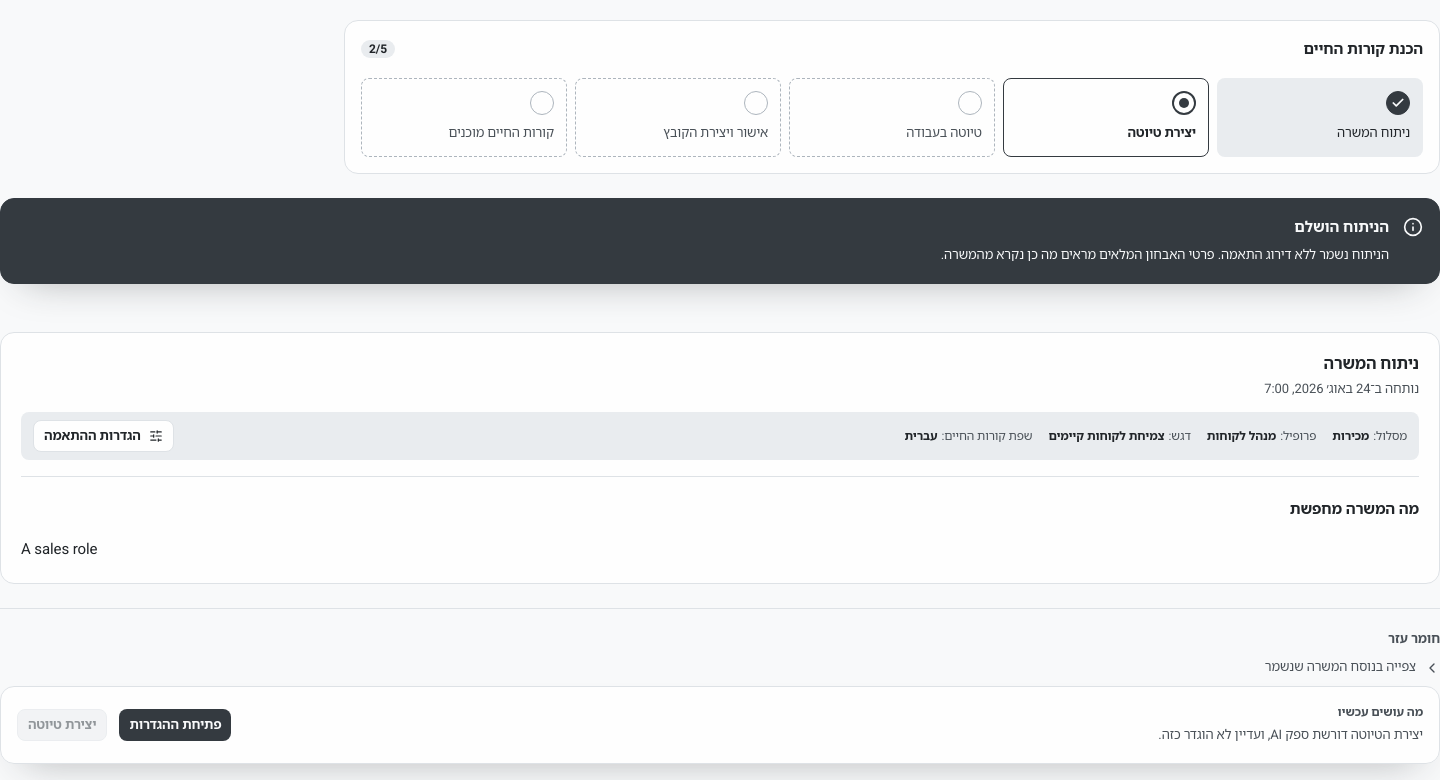
Test: voluntary matching configuration › shows current values and sends the analysis the form read
(page scrolled)
Expected: the text "מכירות" is shown, x1=1332 y1=427 x2=1369 y2=445
Expected: the text "מנהל לקוחות" is shown, x1=1207 y1=427 x2=1276 y2=445
Click the button "הגדרות ההתאמה": (103, 436) x1=33 y1=420 x2=174 y2=452
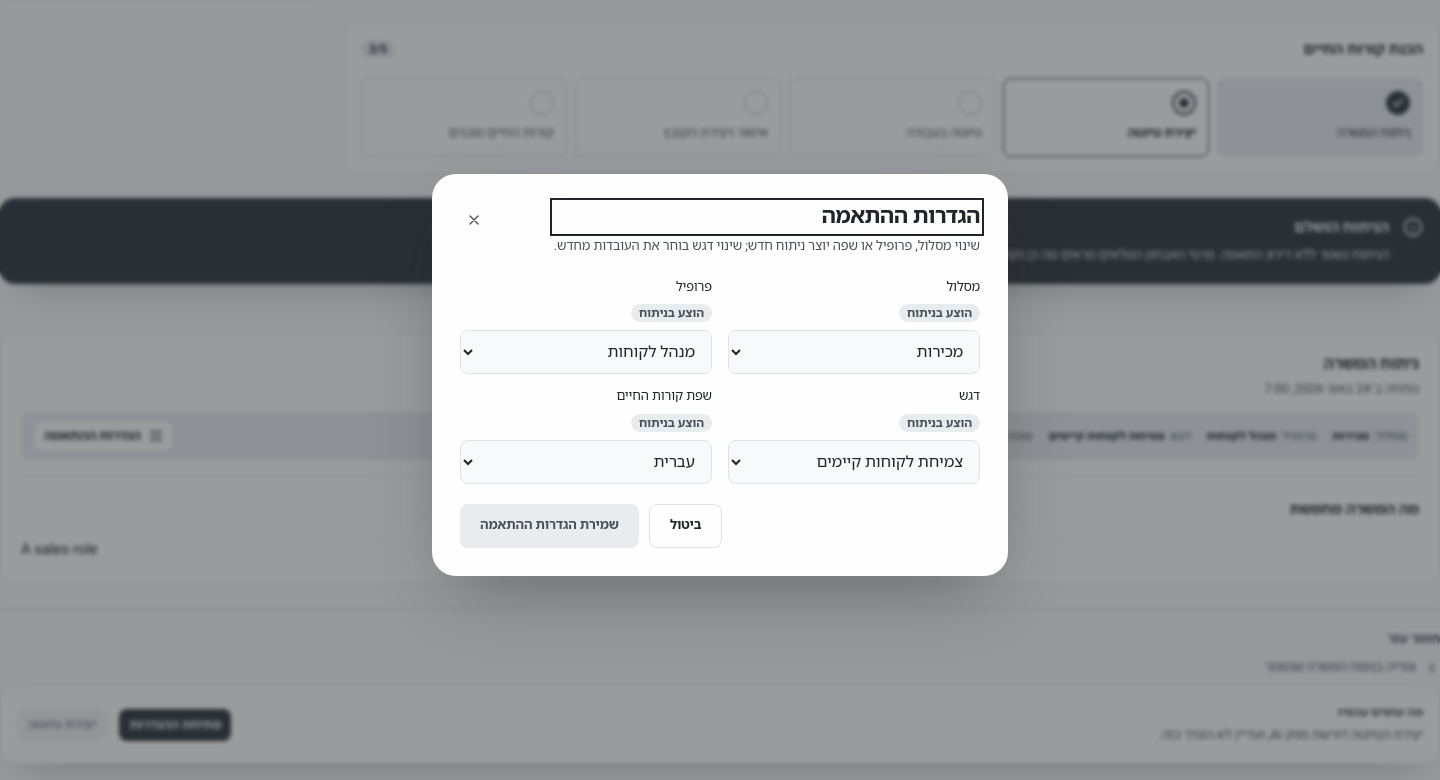
Now the dropdown labelled "מסלול" shows "מכירות", box x1=728 y1=330 x2=980 y2=374
Now the dropdown labelled "פרופיל" shows "מנהל לקוחות", box x1=460 y1=330 x2=712 y2=374
Now the dropdown labelled "דגש" shows "צמיחת לקוחות קיימים"
Select "לקוחות חדשים" in the dropdown labelled "דגש": (854, 462) x1=728 y1=440 x2=980 y2=484
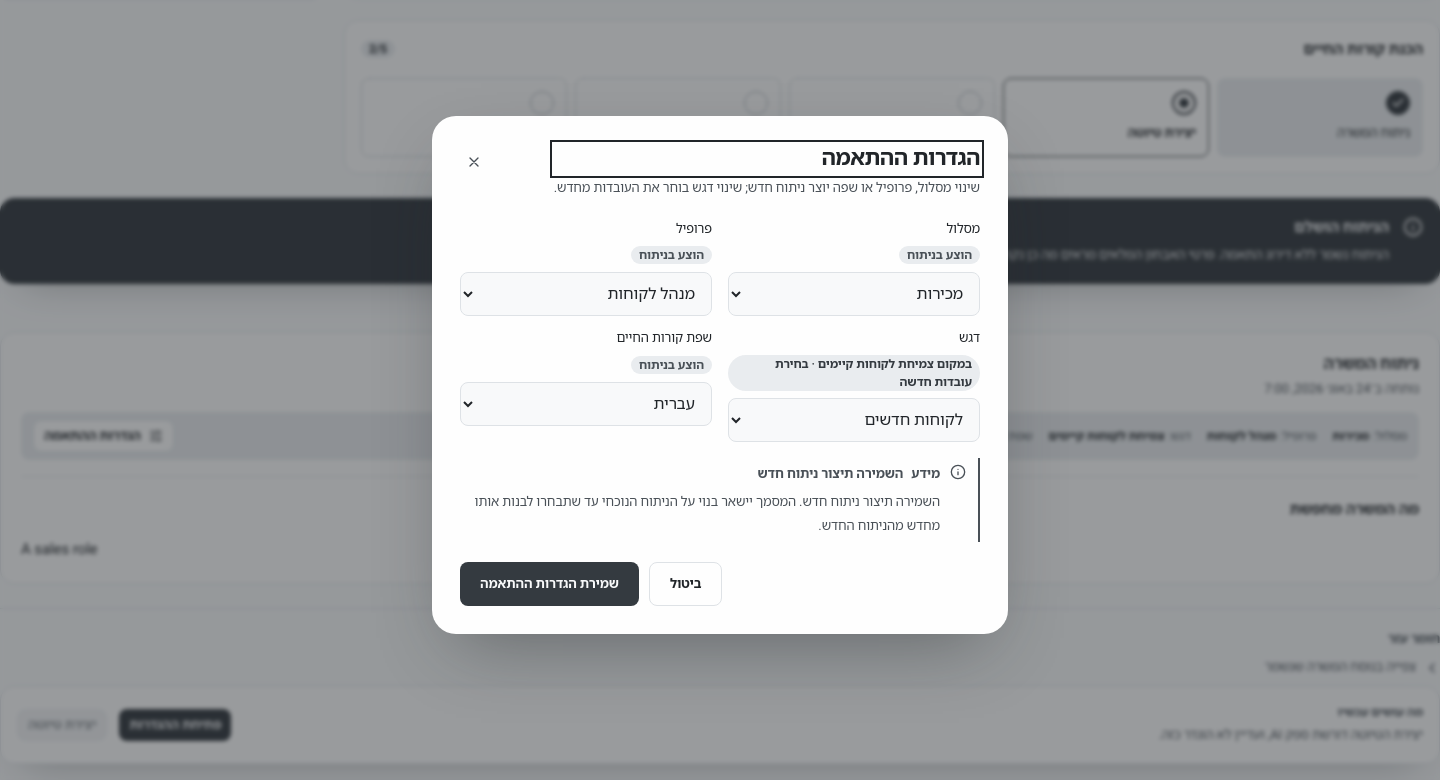
Now the button "שמירת הגדרות ההתאמה" is enabled
Click the button "שמירת הגדרות ההתאמה": (549, 584) x1=460 y1=562 x2=639 y2=606
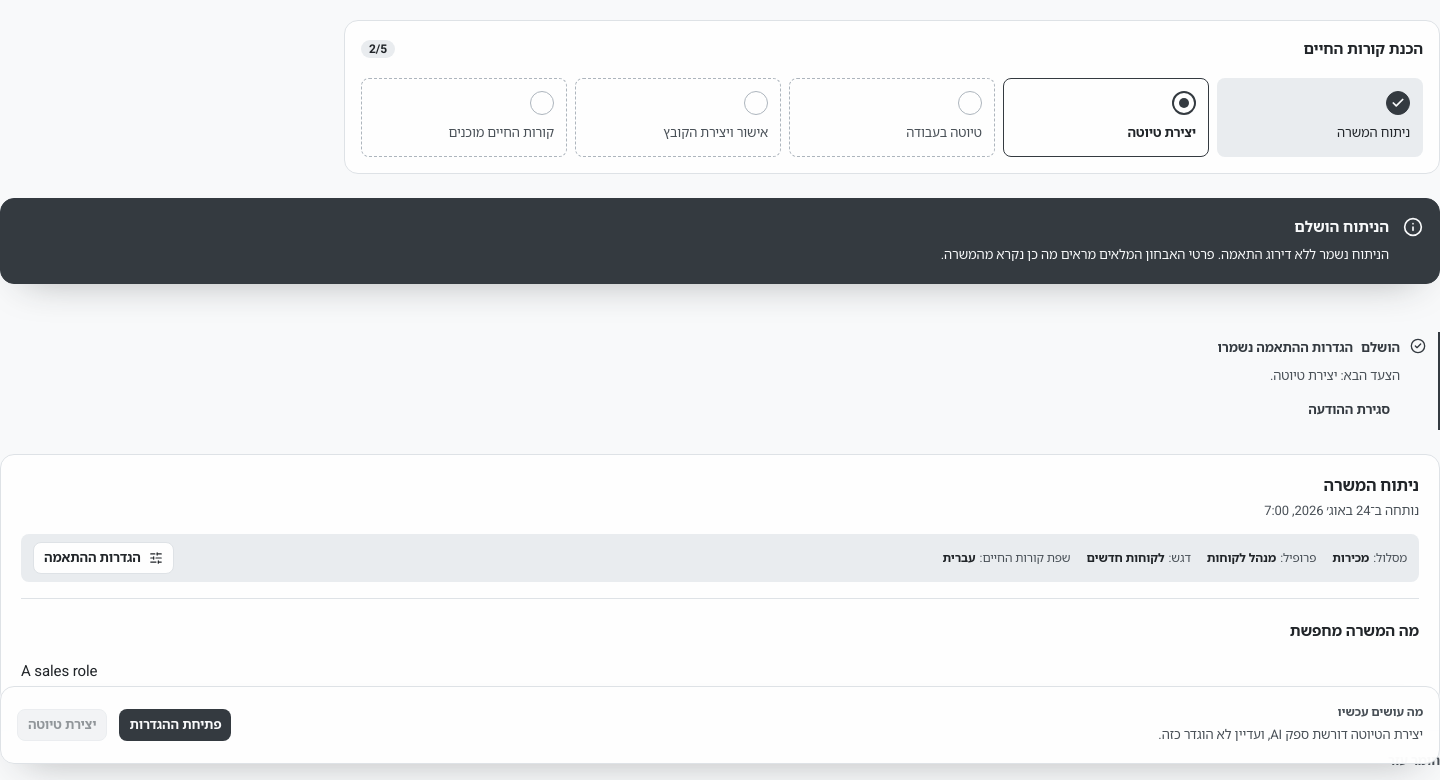
Now the text "הגדרות ההתאמה נשמרו" is shown, box x1=1218 y1=336 x2=1353 y2=360
